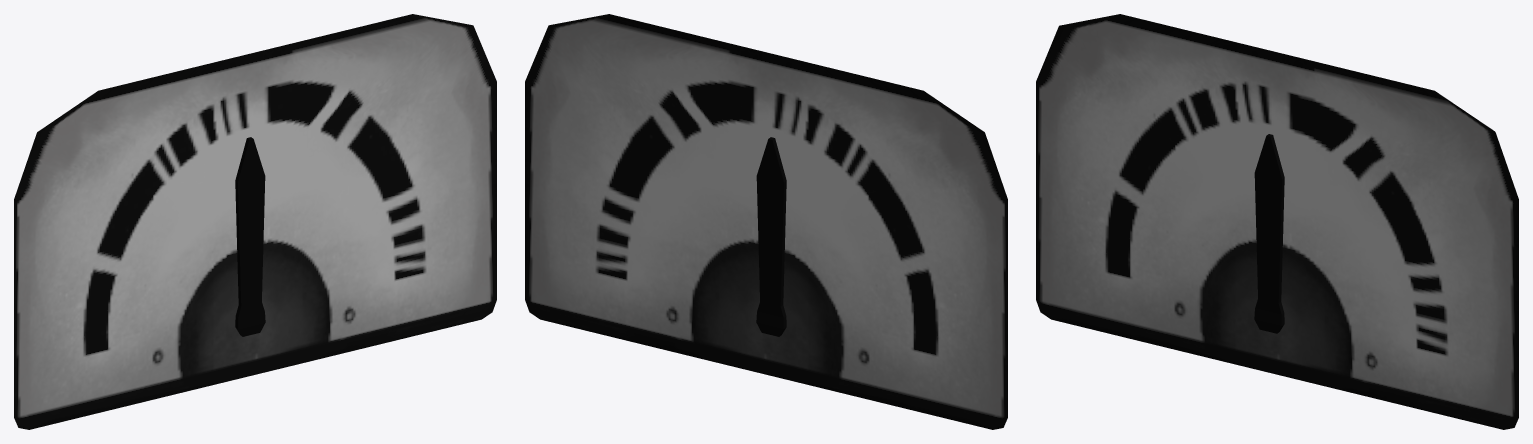
The model's file is indicator_plane.fbx.
The picture shows the model from 3 angles, left to right: view 1: azimuth 30°, elevation 25°; view 2: azimuth 150°, elevation 25°; view 3: azimuth 330°, elevation 25°; orthographic projection.
Visible parts, largest first — view 1: Cube.002, Cube.003; view 2: Cube.002, Cube.003; view 3: Cube.002, Cube.003.
Boxes of the visible parts, left/top/right/bottom form: Cube.002: left=14, top=14, right=496, bottom=429; Cube.003: left=235, top=137, right=265, bottom=336; Cube.002: left=525, top=14, right=1007, bottom=429; Cube.003: left=756, top=137, right=786, bottom=336; Cube.002: left=1036, top=14, right=1518, bottom=429; Cube.003: left=1254, top=134, right=1284, bottom=333.
Bounding box in the file's own units: 52.63 × 1.12 × 33.57.
